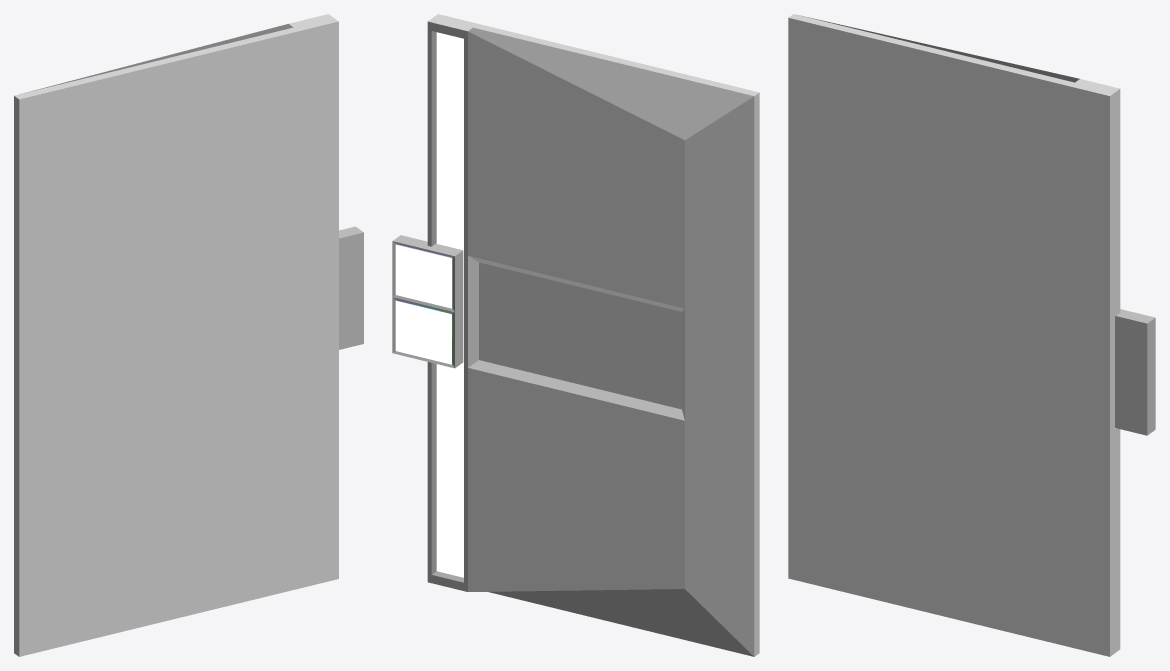
Rendered from Left Lift Door.fbx.
The picture shows the model from 3 angles, left to right: view 1: azimuth 30°, elevation 25°; view 2: azimuth 150°, elevation 25°; view 3: azimuth 330°, elevation 25°; orthographic projection.
Visible parts, largest first — view 1: Cube.001; view 2: Cube.001; view 3: Cube.001.
Part boxes in pixels (x1=…): Cube.001: x1=14, y1=14, x2=363, y2=656; Cube.001: x1=392, y1=14, x2=759, y2=656; Cube.001: x1=788, y1=14, x2=1155, y2=656.
Size of the model in its own units: 198 by 300 by 13.88.
